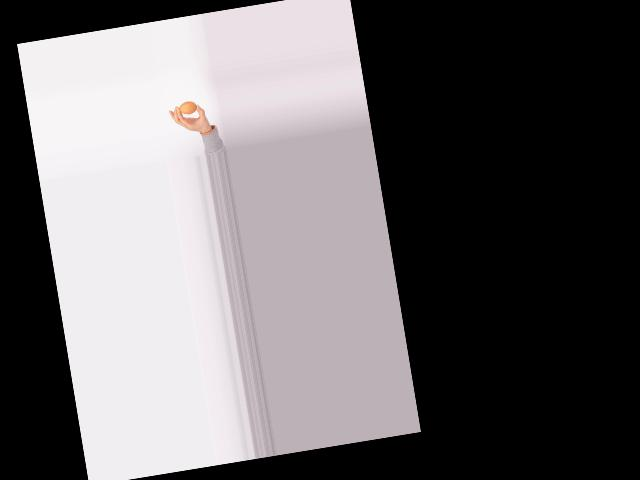egg: (178, 100, 197, 115)
